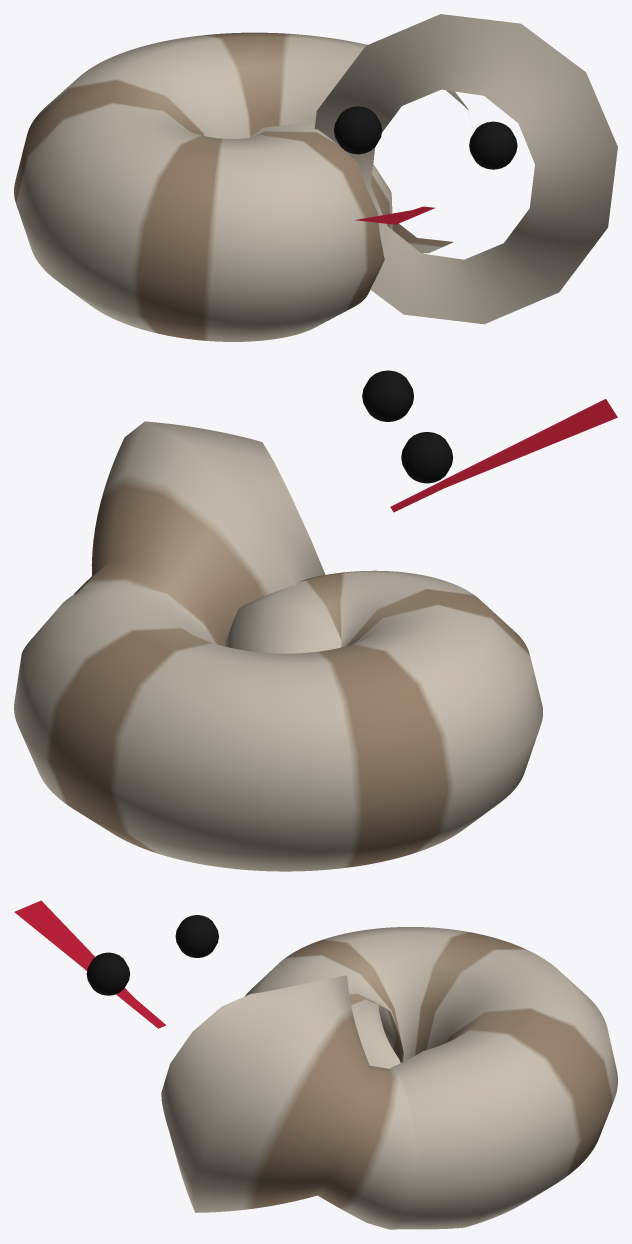
Rendered from boa.glb.
The picture shows the model from 3 angles, top to bottom: view 1: azimuth 30°, elevation 25°; view 2: azimuth 150°, elevation 25°; view 3: azimuth 270°, elevation 25°; orthographic projection. The views are drawn at different scales.
Bounding box in the file's own units: 0.9956 × 0.5635 × 1.25.
